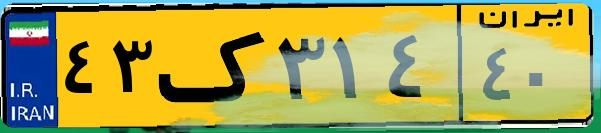0: (525, 38, 570, 115)
1: (330, 28, 385, 110)
3: (270, 28, 330, 110), (110, 28, 158, 98)
4: (385, 28, 445, 110), (57, 26, 110, 100), (475, 38, 525, 113)
ک: (158, 12, 270, 120)
